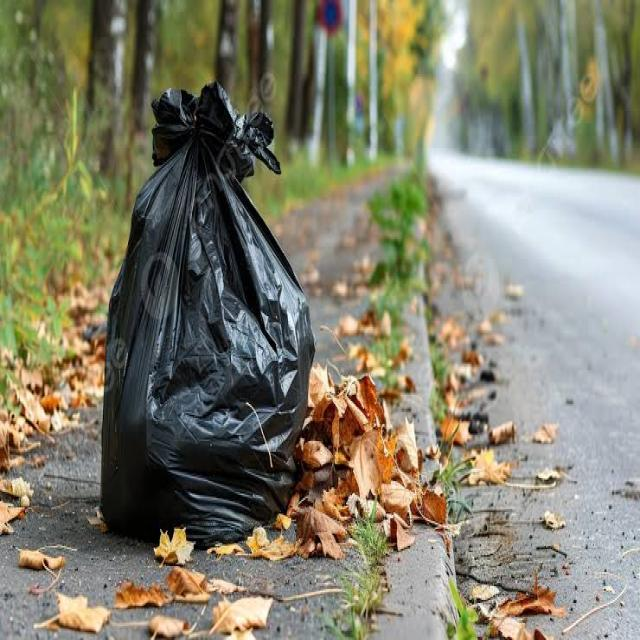plastic bag: (81, 81, 337, 562)
